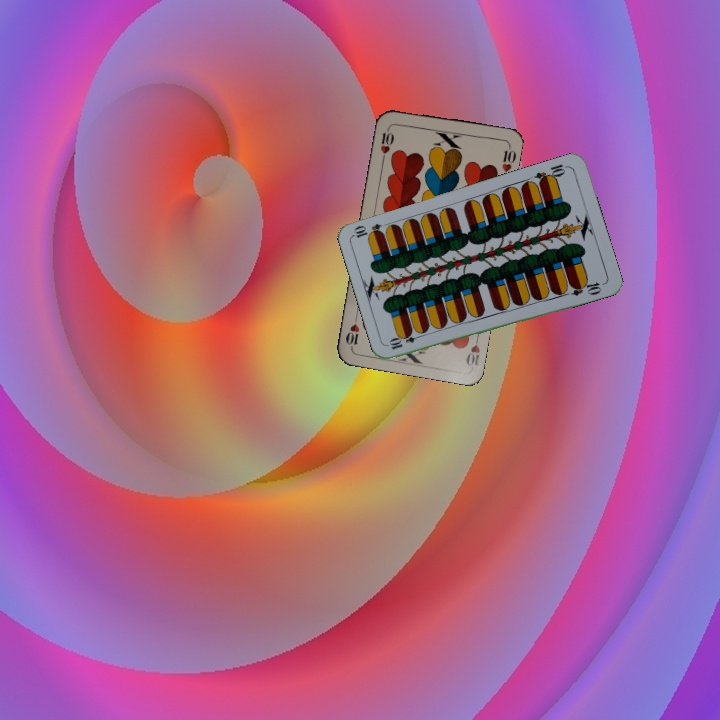E10: (531, 160, 571, 187), (386, 329, 425, 352)
H10: (376, 123, 397, 163), (462, 329, 483, 369)
